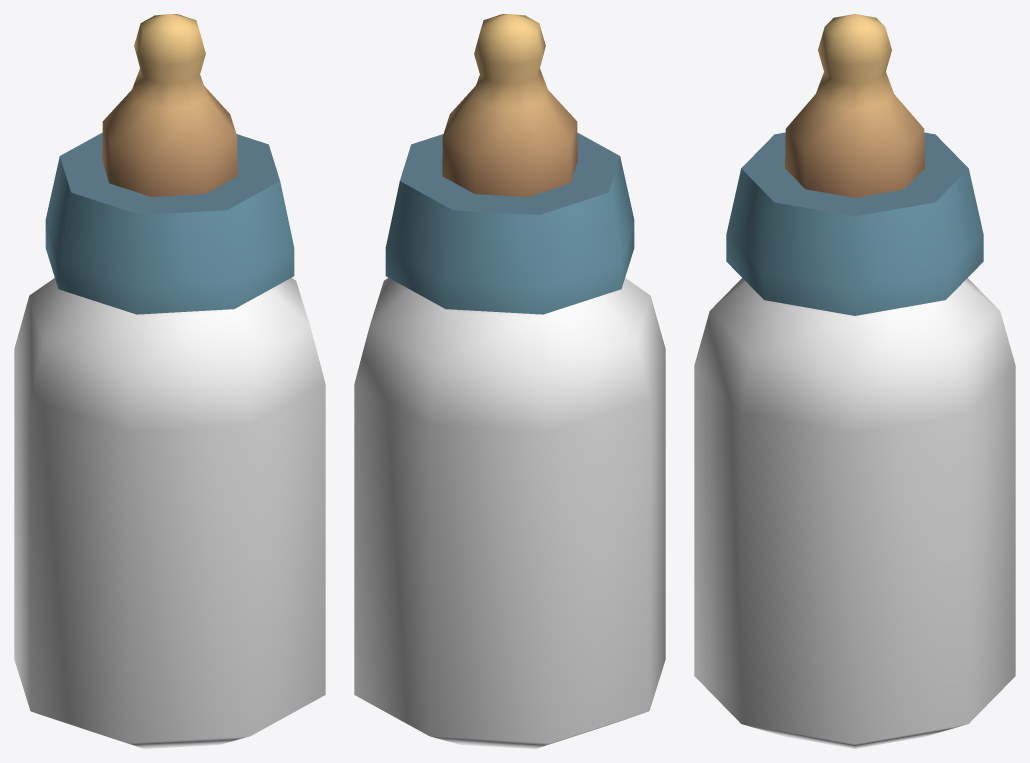
File: consumables-drinks-babybottle_v1.fbx
3 renders of one model, left to right at view 1: azimuth 30°, elevation 25°; view 2: azimuth 150°, elevation 25°; view 3: azimuth 270°, elevation 25°, orthographic.
Visible parts, largest first — view 1: BabyBottle_transp, BabyBottle_base; view 2: BabyBottle_transp, BabyBottle_base; view 3: BabyBottle_transp, BabyBottle_base.
Part boxes in pixels (x1,y1,x2,y2): BabyBottle_transp: (14, 278, 325, 748); BabyBottle_base: (45, 14, 294, 314); BabyBottle_transp: (354, 278, 665, 748); BabyBottle_base: (385, 14, 634, 314); BabyBottle_transp: (694, 278, 1015, 748); BabyBottle_base: (726, 14, 983, 315).
Bounding box in the file's own units: 0.108 × 0.2567 × 0.108.
